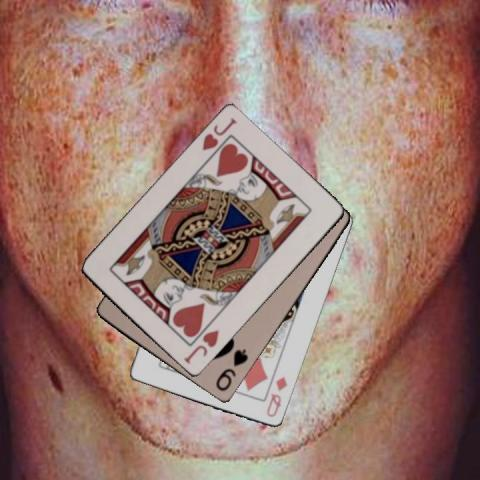9s: (213, 347, 250, 393)
Jh: (180, 327, 221, 366), (199, 114, 239, 153)
Qd: (264, 374, 290, 419)
